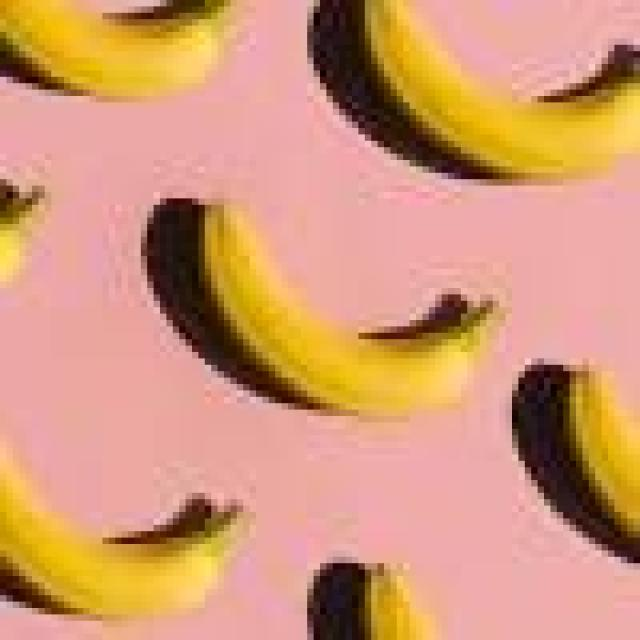Banana: (144, 199, 491, 412), (309, 0, 640, 177), (0, 452, 246, 616), (514, 364, 640, 561)
